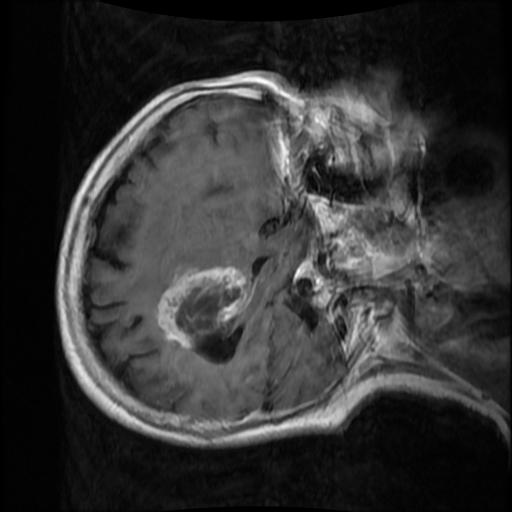glioma: (157, 264, 248, 349)
